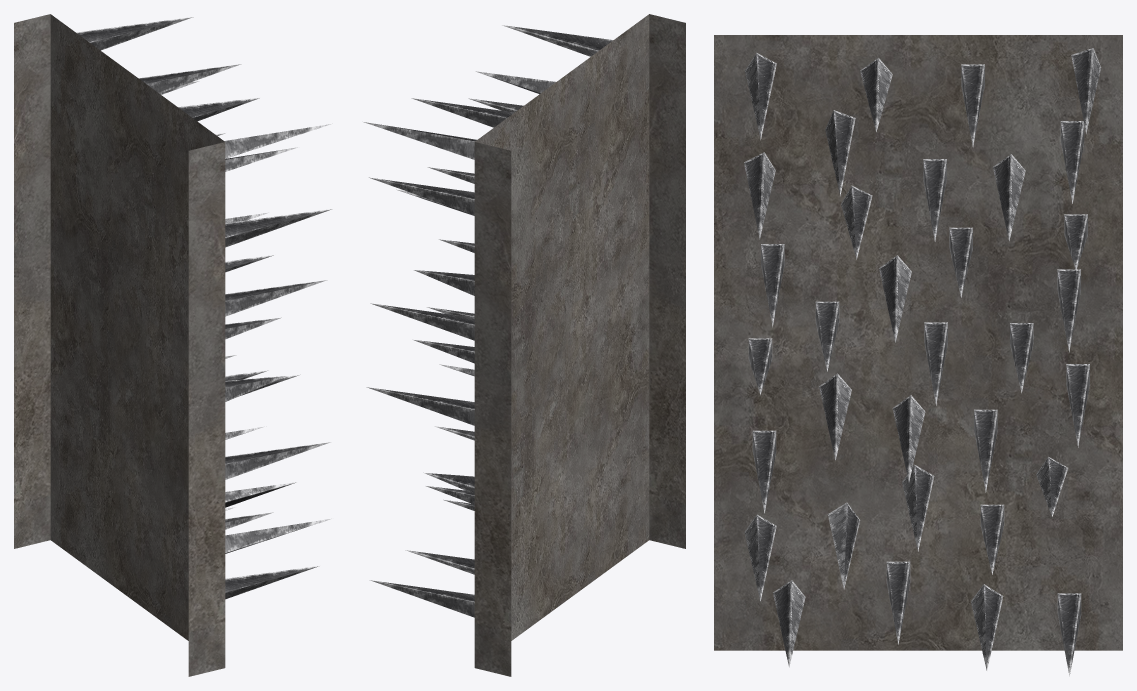
Rendered from ExportLibraryWallSpeaks.FBX.
The picture shows the model from 3 angles, left to right: view 1: azimuth 30°, elevation 25°; view 2: azimuth 150°, elevation 25°; view 3: azimuth 270°, elevation 25°; orthographic projection. The views are drawn at different scales.
Parts seen in each view (by area): view 1: wall_with_peaks, Box003; view 2: wall_with_peaks, Box003; view 3: wall_with_peaks, Box003.
Part boxes in pixels (x1,y1,x2,y2): wall_with_peaks: (14, 14, 225, 676); Box003: (76, 17, 332, 599); wall_with_peaks: (474, 14, 685, 676); Box003: (363, 25, 613, 617); wall_with_peaks: (714, 35, 1122, 650); Box003: (744, 48, 1101, 676).
Bounding box in the file's own units: 60.65 × 111 × 185.
